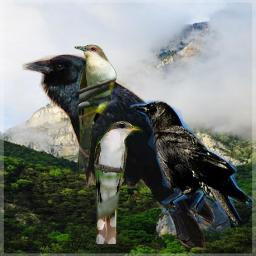Crow: (22, 54, 215, 250), (125, 99, 254, 230)
Cuckoo: (93, 120, 143, 244), (74, 44, 118, 174)
